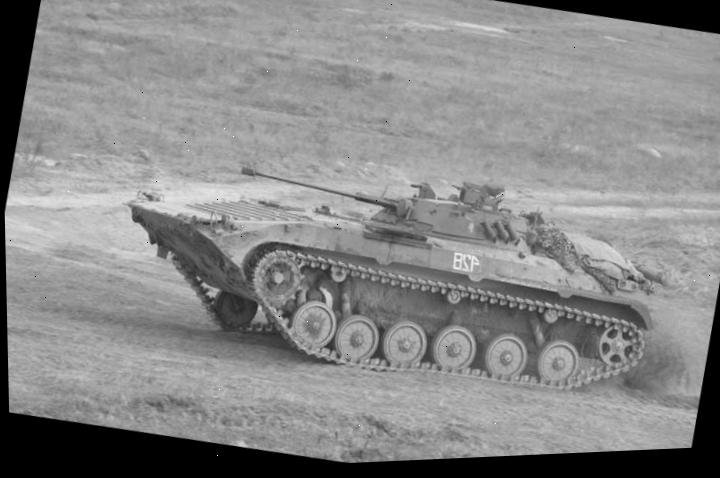tank: (94, 99, 688, 436)
